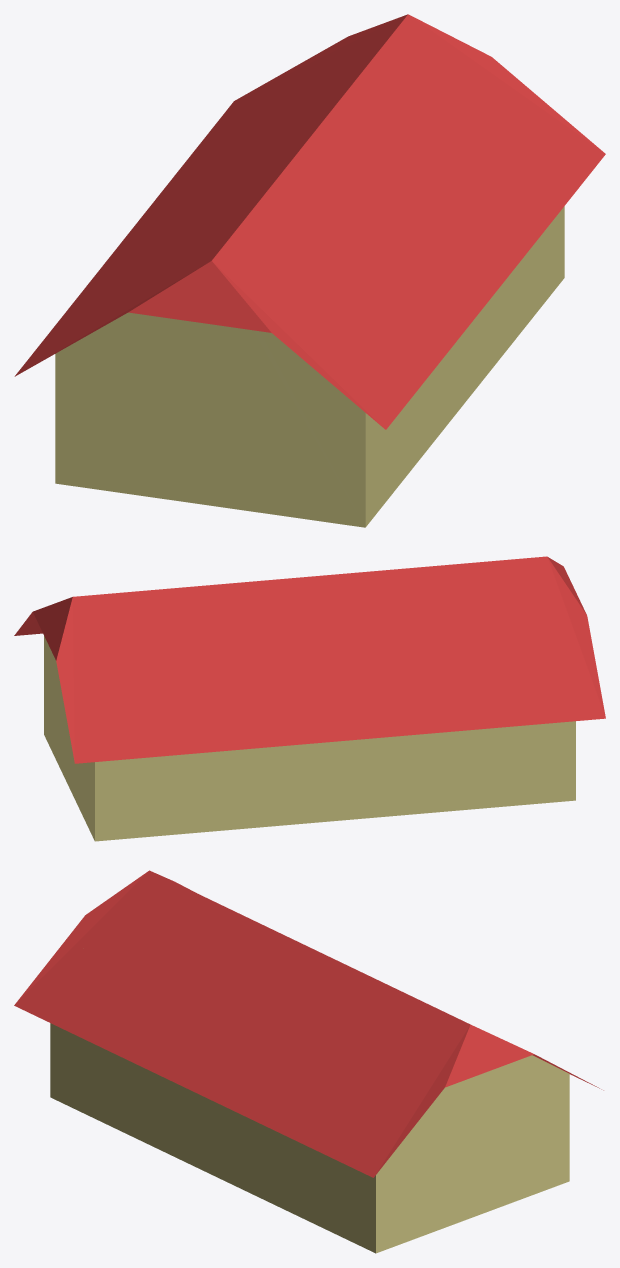
3 views of the same model, one above another, from view 1: azimuth 30°, elevation 25°; view 2: azimuth 150°, elevation 25°; view 3: azimuth 270°, elevation 25° (orthographic). The views are drawn at different scales.
Parts seen in each view (by area): view 1: group_3, group_5, group_4; view 2: group_3, group_5, group_4; view 3: group_3, group_5, group_4.
Part boxes in pixels (x1=…): group_3: x1=14, y1=14, x2=605, y2=429; group_5: x1=55, y1=206, x2=564, y2=527; group_4: x1=30, y1=17, x2=605, y2=429; group_3: x1=15, y1=556, x2=605, y2=763; group_5: x1=44, y1=636, x2=575, y2=841; group_4: x1=14, y1=558, x2=604, y2=761; group_3: x1=50, y1=870, x2=599, y2=1177; group_5: x1=50, y1=1023, x2=569, y2=1253; group_4: x1=14, y1=873, x2=603, y2=1177.
Bounding box in the file's own units: 47.73 × 46.11 × 16.49.
